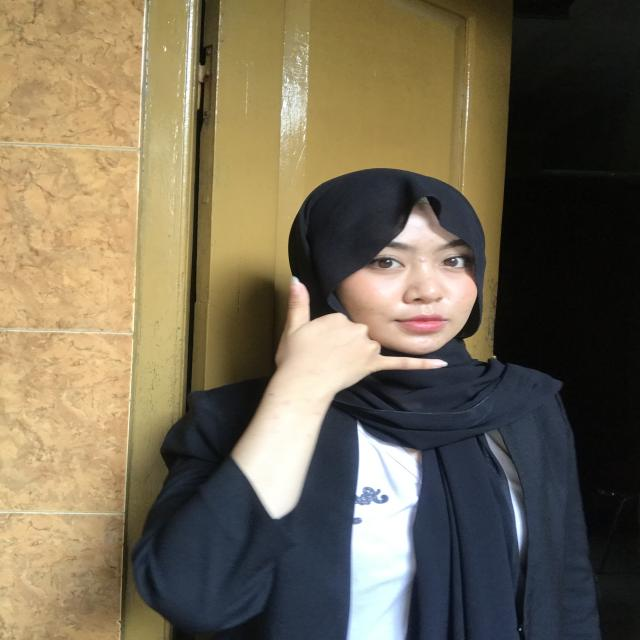telpon: (259, 263, 469, 394)
